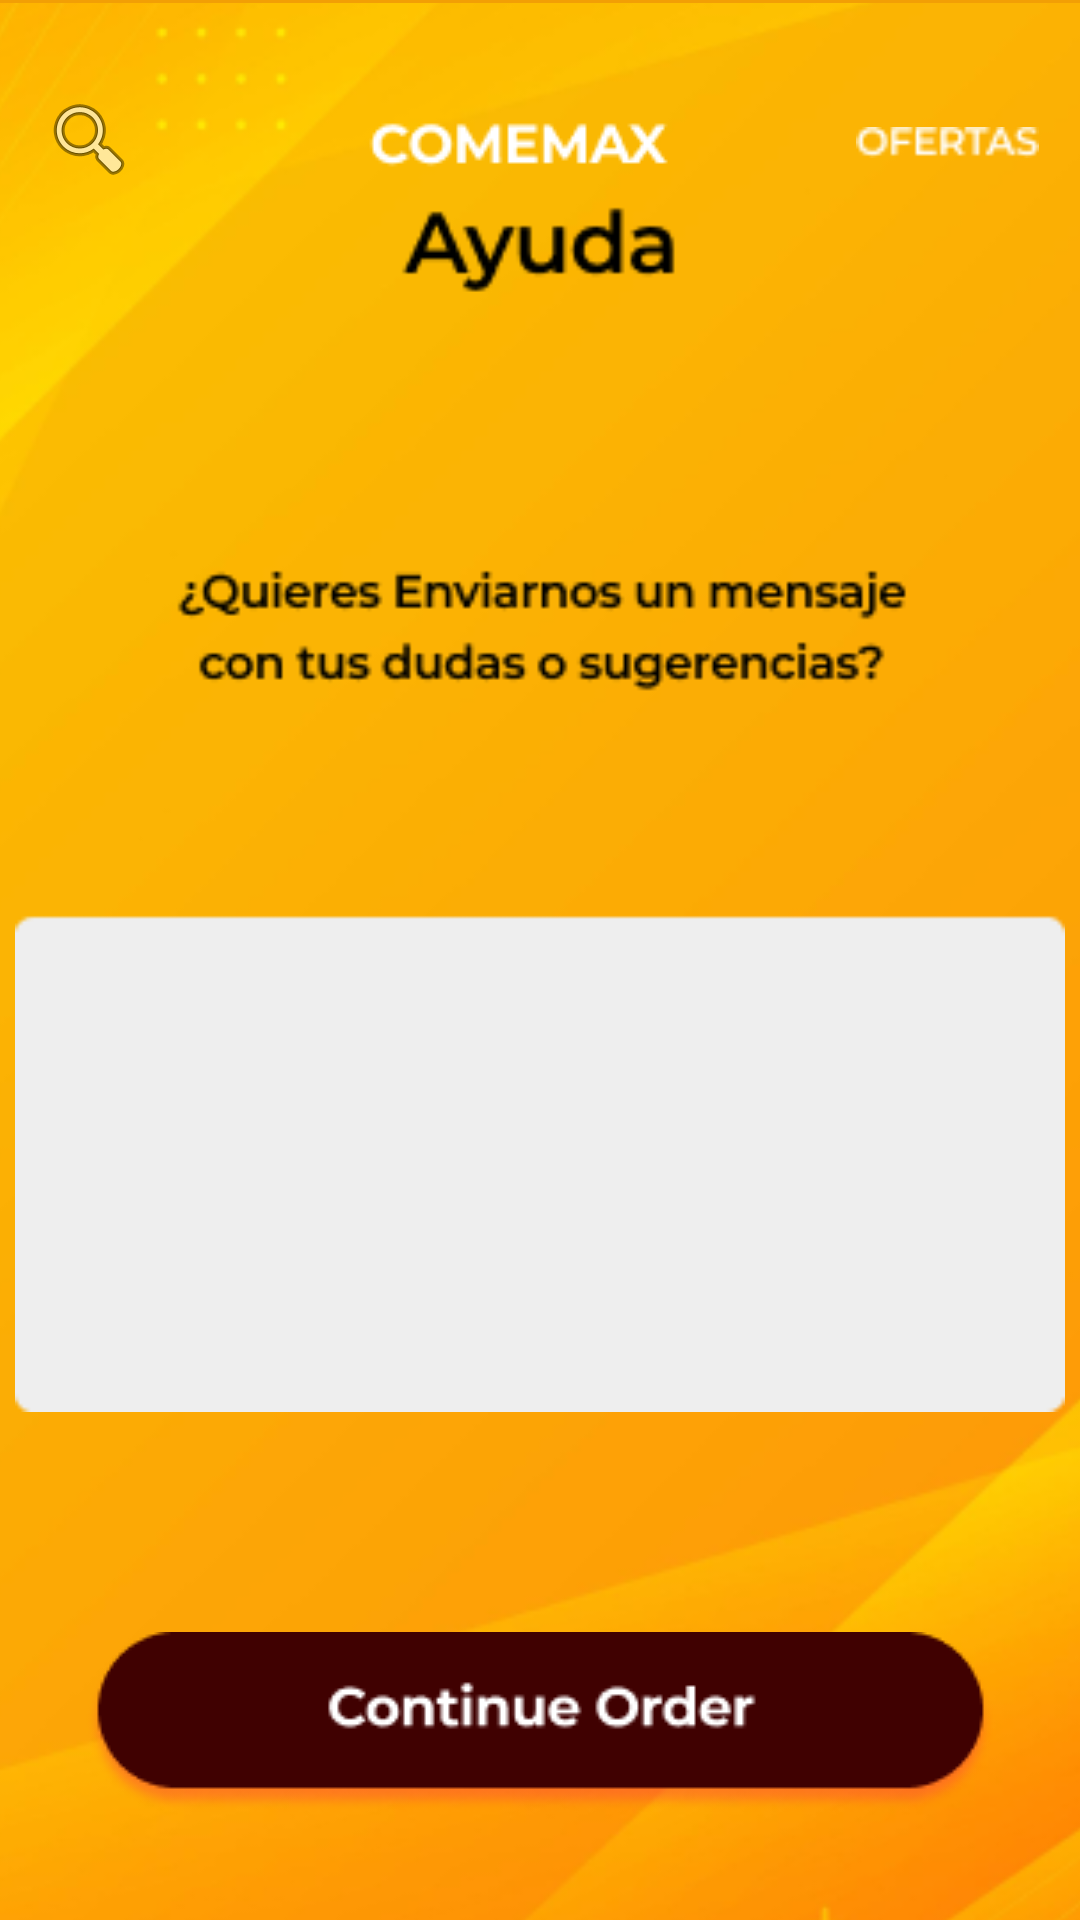

Point at icon controls on the screen. Image size 1080 x 1920, points as (x,y).
search: (89,139)
